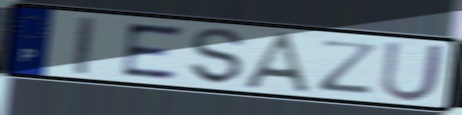A: (239, 30, 318, 97)
E: (120, 22, 186, 81)
I: (73, 14, 97, 77)
S: (189, 26, 248, 87)
U: (377, 39, 448, 104)
Z: (318, 38, 383, 96)
